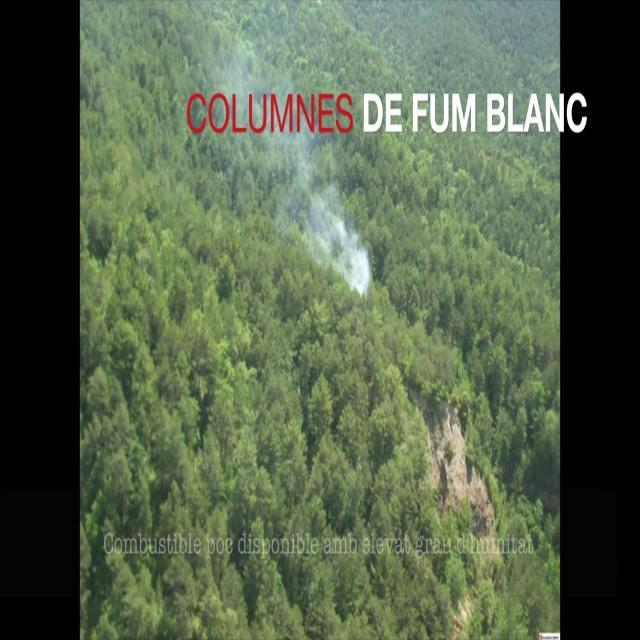Smoke: (288, 140, 372, 299)
